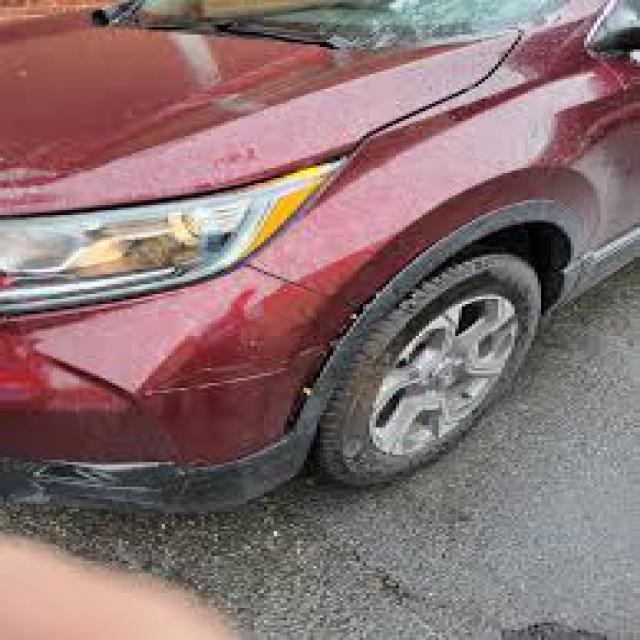front-bumper-dent: (3, 265, 428, 512)
